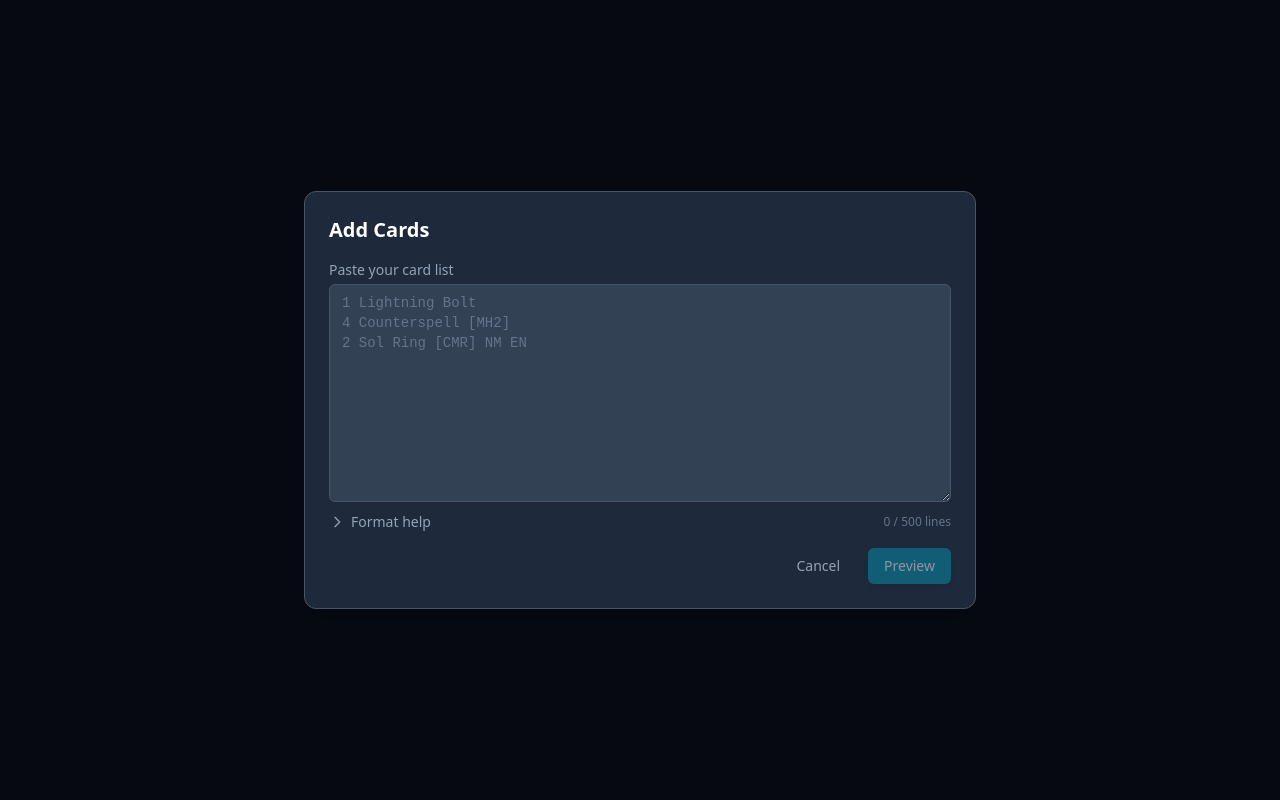
BatchAddModal › partial error shows summary with error details
Type "test" into the text box with test id "batch-textarea" at (640, 393), box [329, 284, 951, 502]
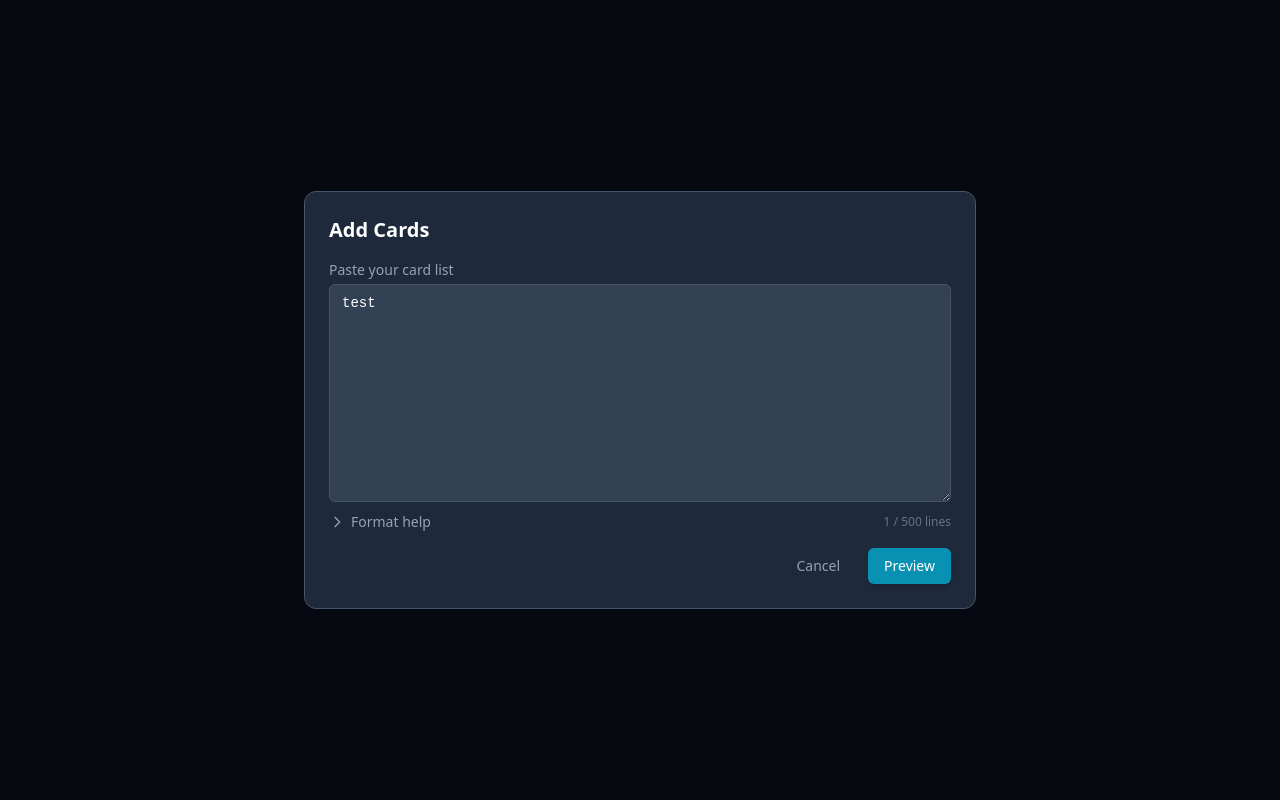
Click the button with test id "batch-preview-btn" at (910, 566), box [868, 548, 951, 584]
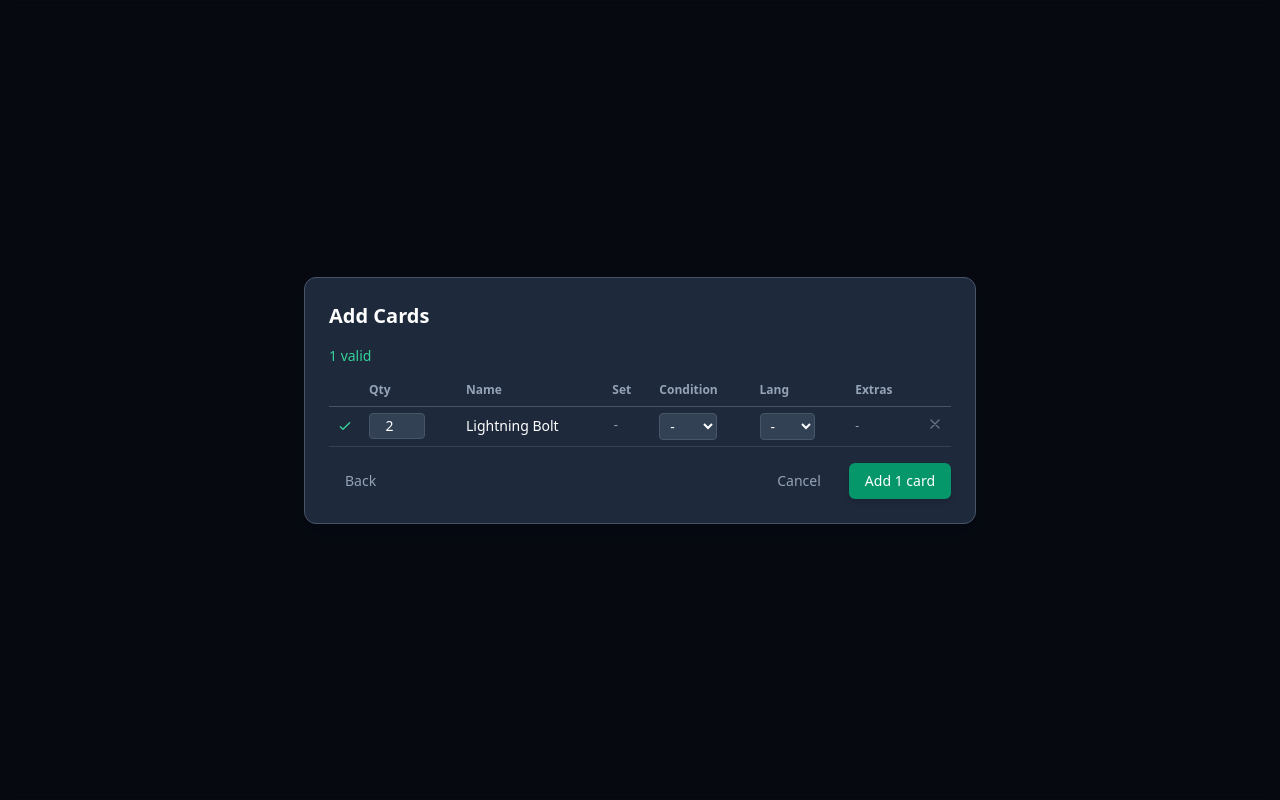
Result: the button with test id "batch-add-btn" is shown
Click the button with test id "batch-add-btn" at (900, 480), box [849, 462, 951, 498]
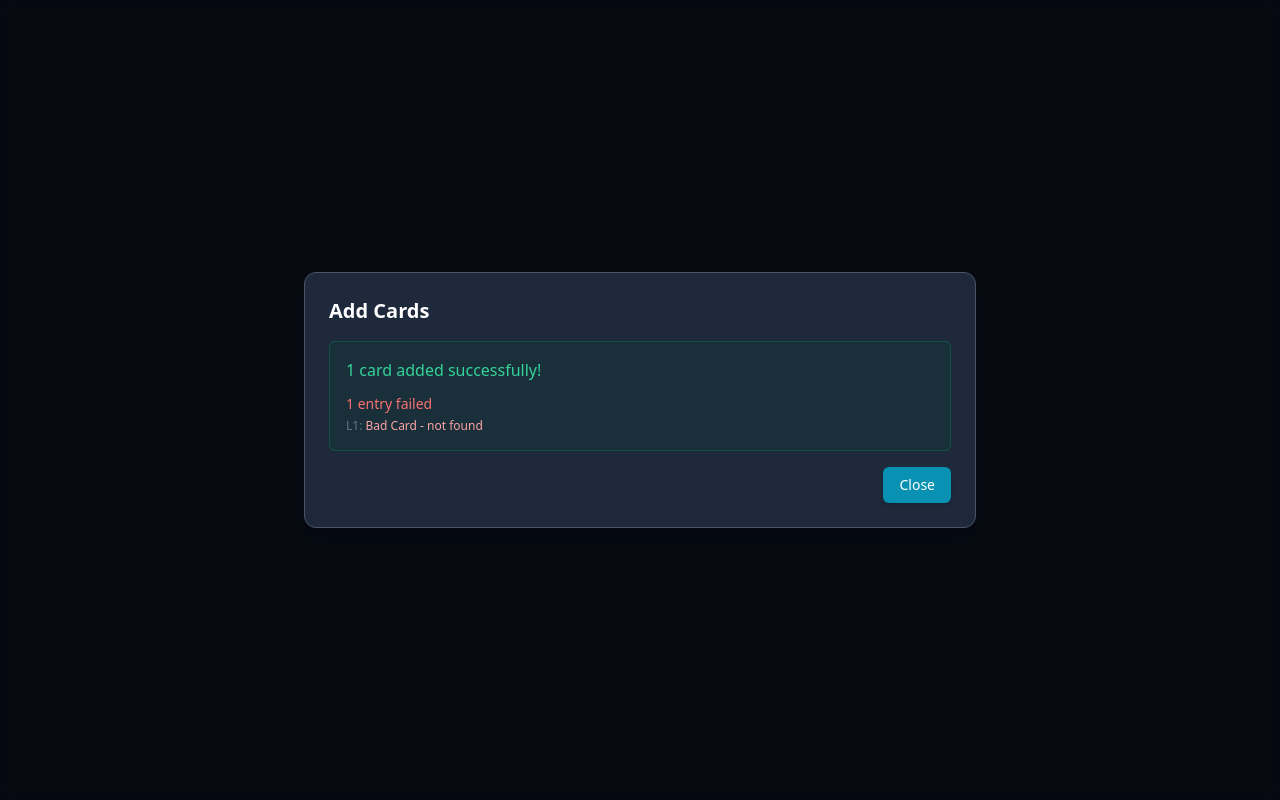
Result: the element with test id "batch-result" is shown at [329, 341, 951, 451]
Result: the list item "L1: Bad Card - not found" is shown at [346, 418, 483, 434]
